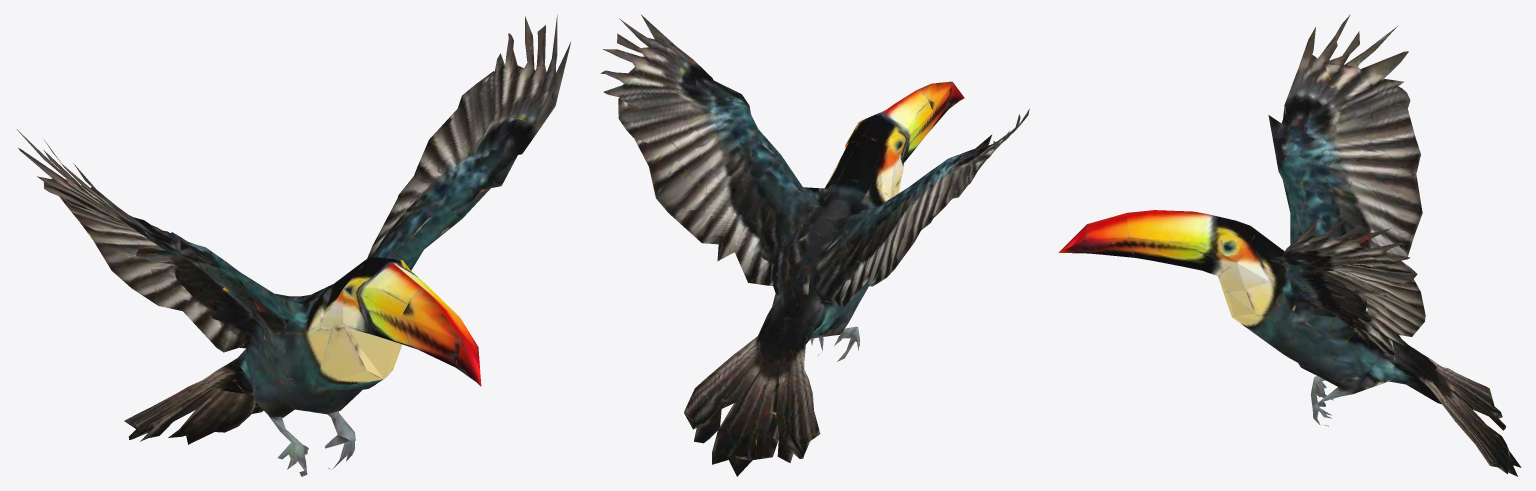
The model's file is tucan.glb.
The picture shows the model from 3 angles, left to right: view 1: azimuth 30°, elevation 25°; view 2: azimuth 150°, elevation 25°; view 3: azimuth 270°, elevation 25°; orthographic projection. The views are drawn at different scales.
Visible parts, largest first — view 1: Object_4; view 2: Object_4; view 3: Object_4.
Part boxes in pixels (bbox=[...]): Object_4: bbox=[16, 15, 571, 476]; Object_4: bbox=[600, 14, 1029, 476]; Object_4: bbox=[1058, 14, 1521, 476].
Size of the model in its own units: 1.89 by 1.58 by 1.86.
1 material, 1 textured.
